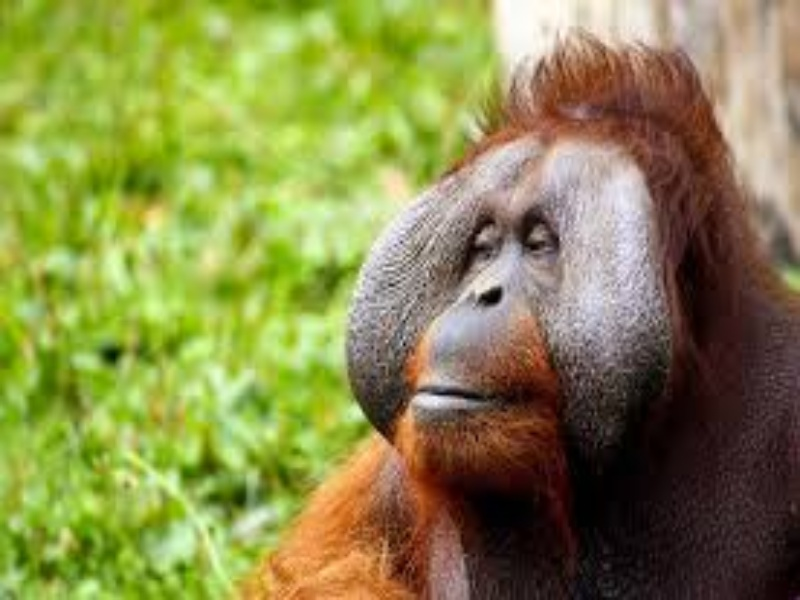monkey: (299, 25, 800, 600)
